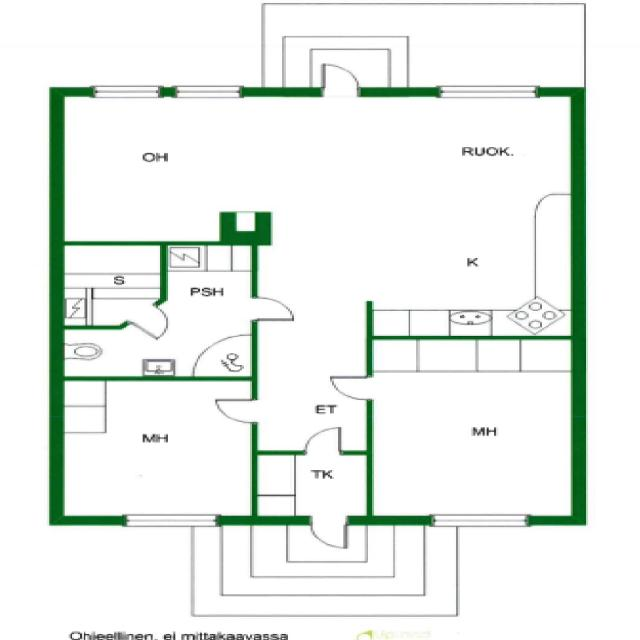door: (300, 515, 363, 565), (303, 413, 361, 454), (127, 304, 183, 340), (323, 55, 371, 96), (207, 394, 258, 424), (252, 296, 301, 325), (325, 372, 371, 400)
